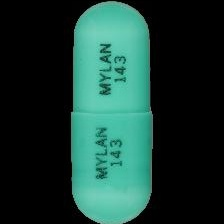67046-330: (0, 0, 224, 224)
